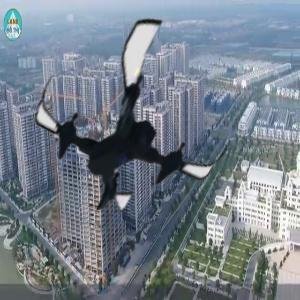drone: (32, 17, 238, 223)
